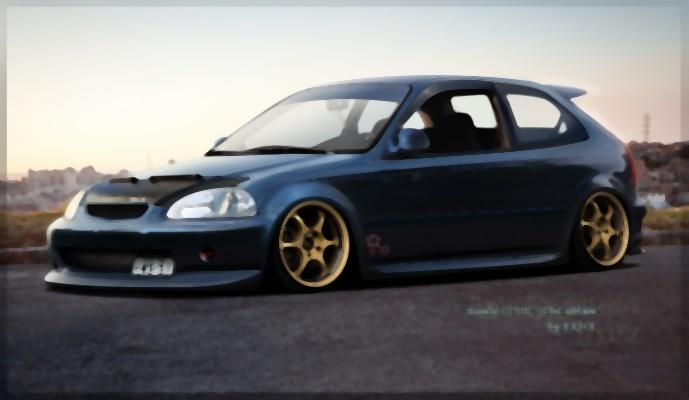Car hood: (111, 148, 370, 191)
Fender - -F-L-: (257, 153, 382, 293)
Fender - -R-L-: (567, 136, 638, 260)
Front bumper: (37, 216, 272, 297)
Headlight - -L-: (159, 180, 264, 223)
Headlight - -R-: (58, 181, 95, 227)
Passenger-s door - -F-L-: (379, 70, 530, 267)
Rear bumper: (621, 197, 652, 260)
Rear light - -L-: (610, 128, 648, 196)
Side bumper - -L-: (356, 248, 578, 290)
Side mirror - -L-: (392, 121, 434, 164)
Side mirror - -R-: (201, 130, 250, 160)
